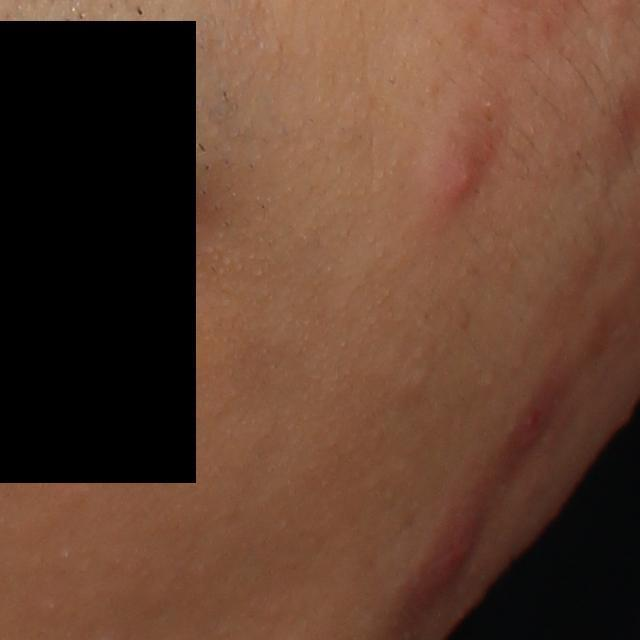comedo: (402, 366, 433, 394)
papule: (407, 504, 494, 613), (422, 113, 502, 209), (509, 403, 557, 458)
